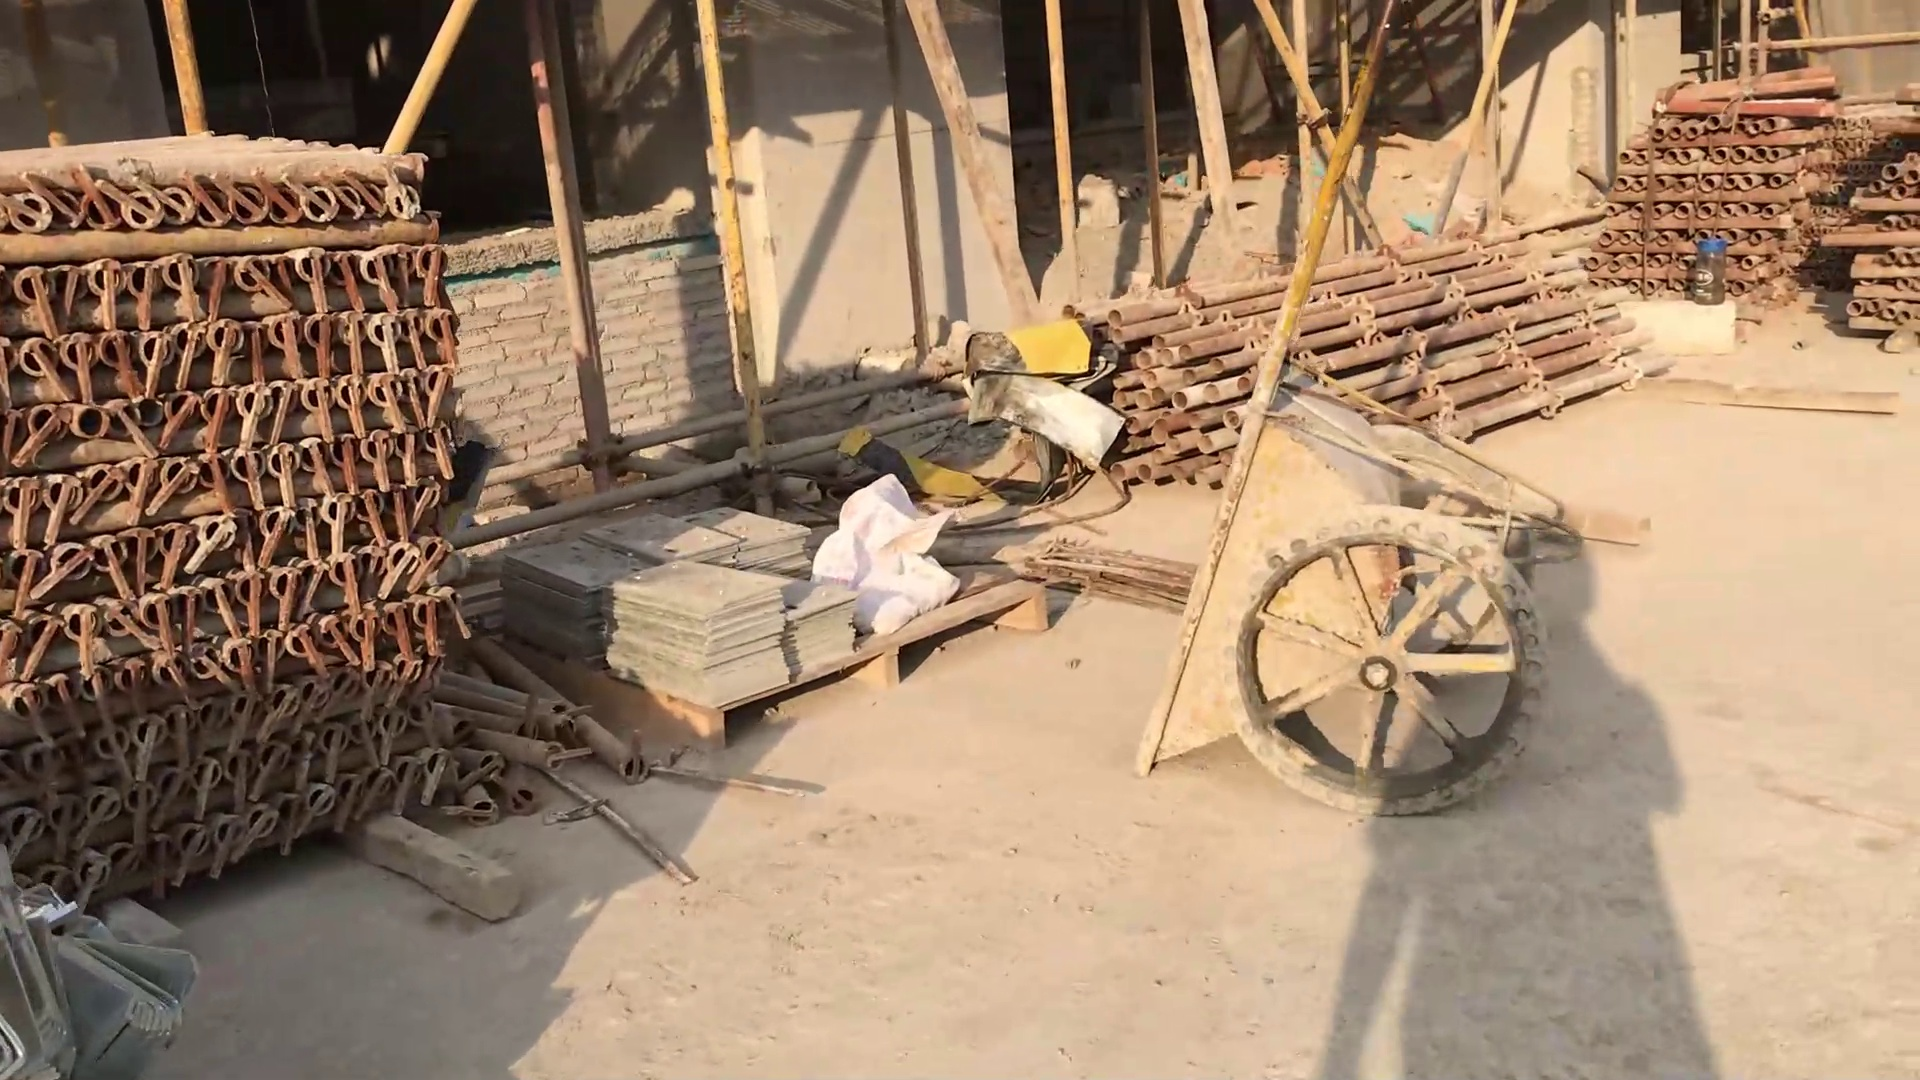handcart: (1130, 1, 1589, 827)
scaffold: (1, 119, 469, 907), (1104, 237, 1633, 483), (1601, 69, 1842, 305), (1834, 90, 1920, 323)
